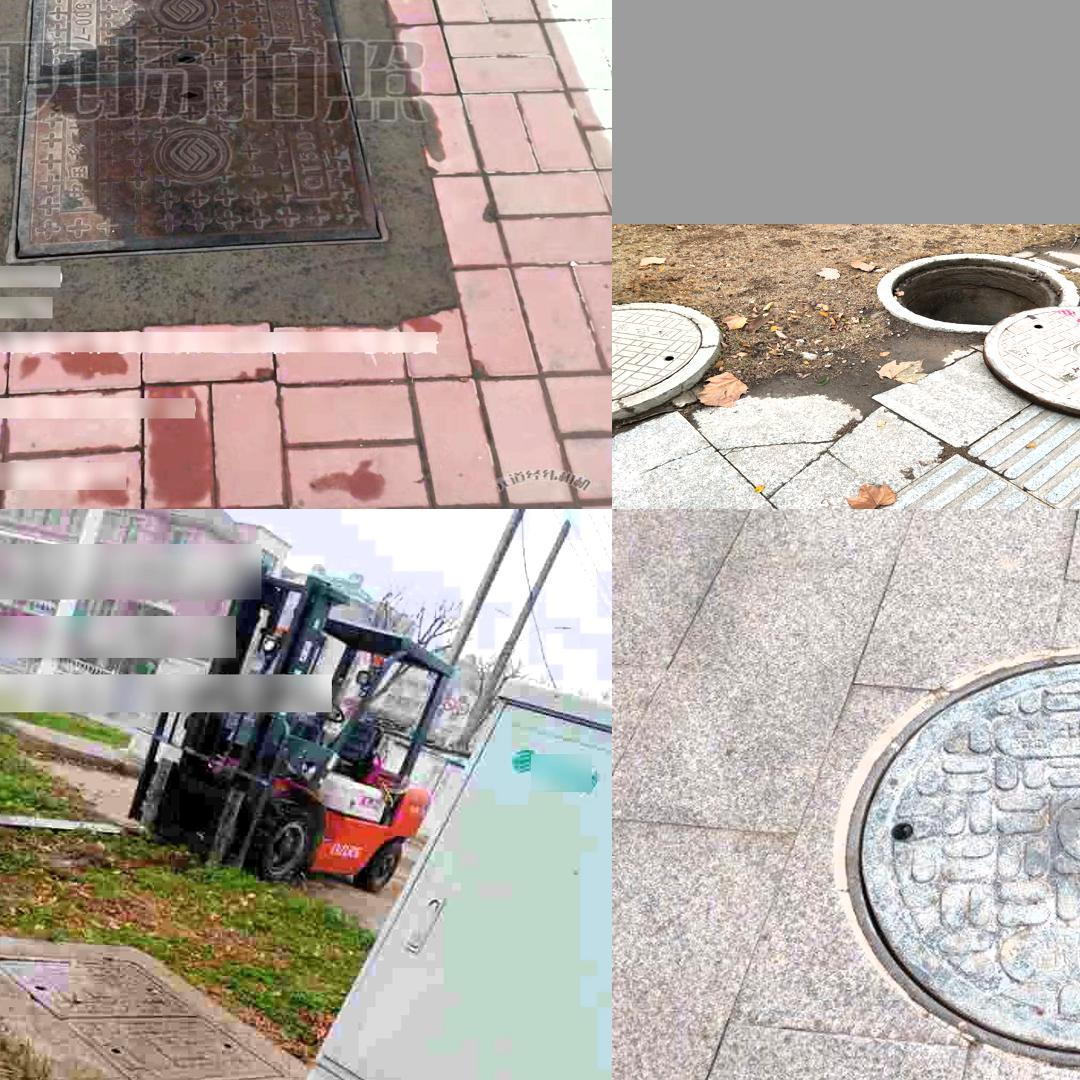good: (824, 636, 1080, 1080), (5, 0, 388, 259), (0, 952, 298, 1080), (612, 302, 720, 421)
uncovered: (879, 252, 1080, 422)
